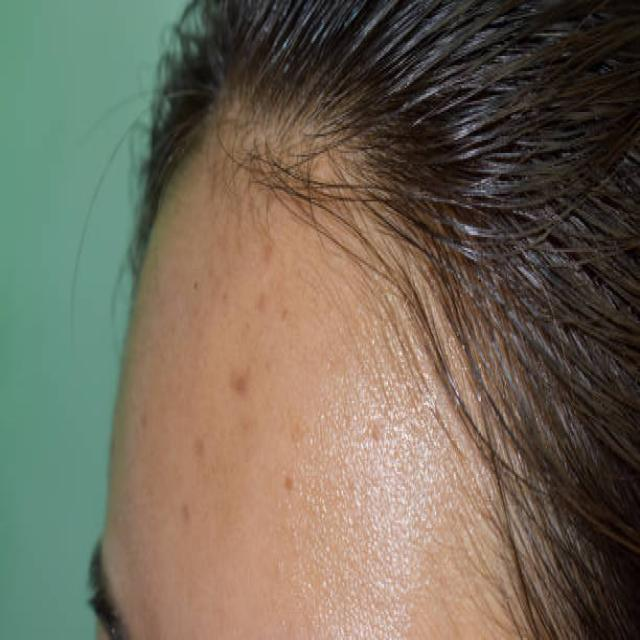dry: (343, 317, 439, 526), (144, 251, 206, 506), (215, 440, 311, 564), (229, 296, 295, 420)
